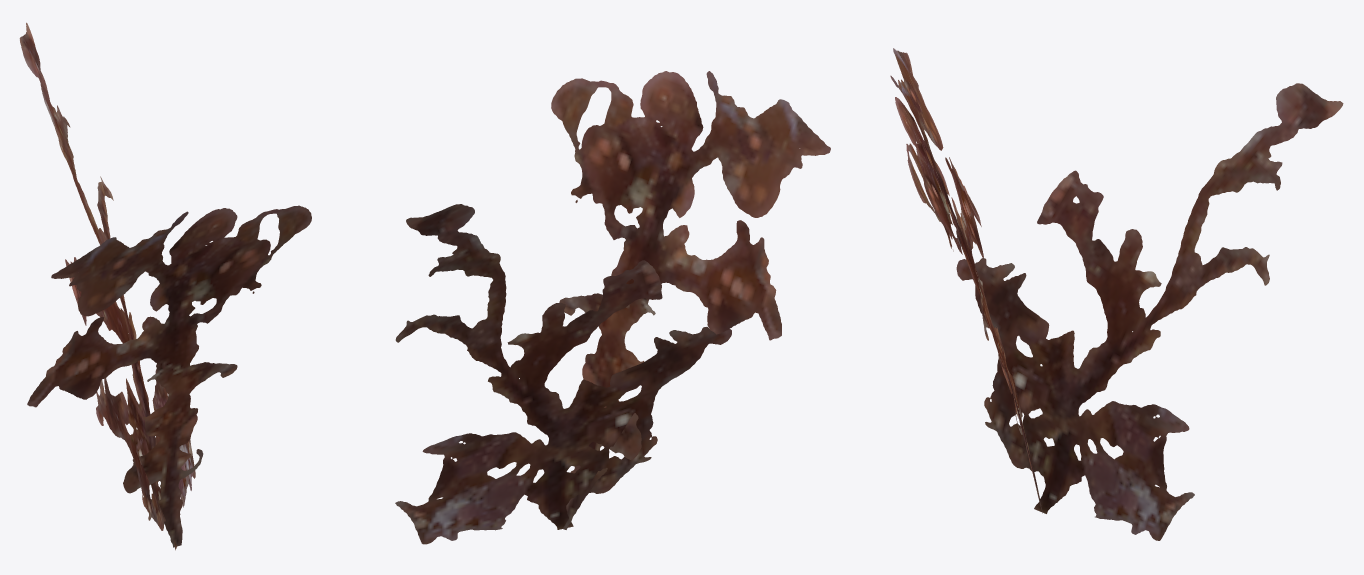
The model's file is seaweed_3_3.FBX.
The picture shows the model from 3 angles, left to right: view 1: azimuth 30°, elevation 25°; view 2: azimuth 150°, elevation 25°; view 3: azimuth 270°, elevation 25°; orthographic projection. The views are drawn at different scales.
Visible parts, largest first — view 1: seaweed_3_03; view 2: seaweed_3_03; view 3: seaweed_3_03.
Part boxes in pixels (x1,y1,x2,y2): seaweed_3_03: [19, 22, 311, 550]; seaweed_3_03: [395, 71, 830, 544]; seaweed_3_03: [890, 48, 1343, 540].
Bounding box in the file's own units: 12.8 × 17.28 × 16.75.
Materials: 1 (1 with a texture image).
